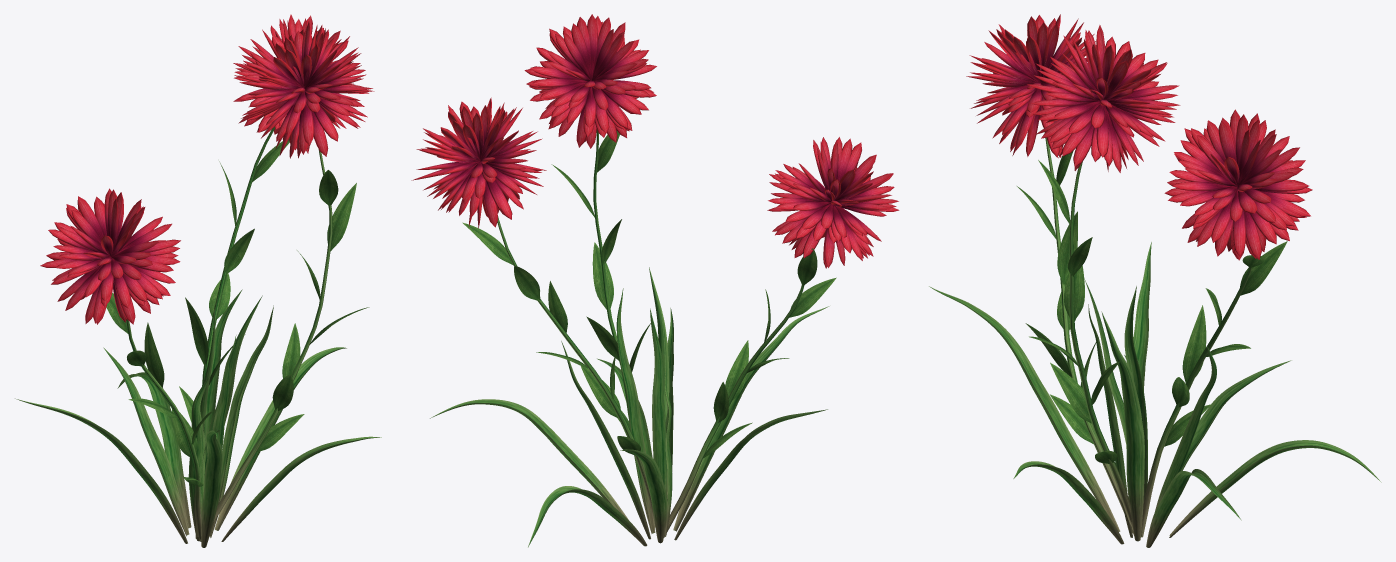
File: pisacan.gltf
3 renders of one model, left to right at view 1: azimuth 30°, elevation 25°; view 2: azimuth 150°, elevation 25°; view 3: azimuth 270°, elevation 25°, orthographic. The views are drawn at different scales.
Visible parts, largest first — view 1: Pisacan_flower_2, Pisacan_flower_2.001, Pisacan_flower_2.003, Pisacan_flower_2.002; view 2: Pisacan_flower_2, Pisacan_flower_2.001, Pisacan_flower_2.003, Pisacan_flower_2.002; view 3: Pisacan_flower_2, Pisacan_flower_2.001, Pisacan_flower_2.003, Pisacan_flower_2.002.
Part boxes in pixels (bbox=[...]): Pisacan_flower_2: bbox=[40, 14, 374, 324]; Pisacan_flower_2.001: bbox=[15, 289, 381, 547]; Pisacan_flower_2.003: bbox=[106, 138, 369, 486]; Pisacan_flower_2.002: bbox=[126, 127, 332, 541]; Pisacan_flower_2: bbox=[411, 14, 899, 268]; Pisacan_flower_2.001: bbox=[430, 267, 829, 547]; Pisacan_flower_2.003: bbox=[462, 131, 836, 458]; Pisacan_flower_2.002: bbox=[497, 129, 804, 537]; Pisacan_flower_2: bbox=[966, 14, 1312, 260]; Pisacan_flower_2.001: bbox=[929, 242, 1381, 547]; Pisacan_flower_2.003: bbox=[1017, 151, 1287, 463]; Pisacan_flower_2.002: bbox=[1044, 132, 1251, 537].
Bounding box in the file's own units: 60.15 × 72.93 × 54.39.
Materials: 4 (4 with a texture image).
